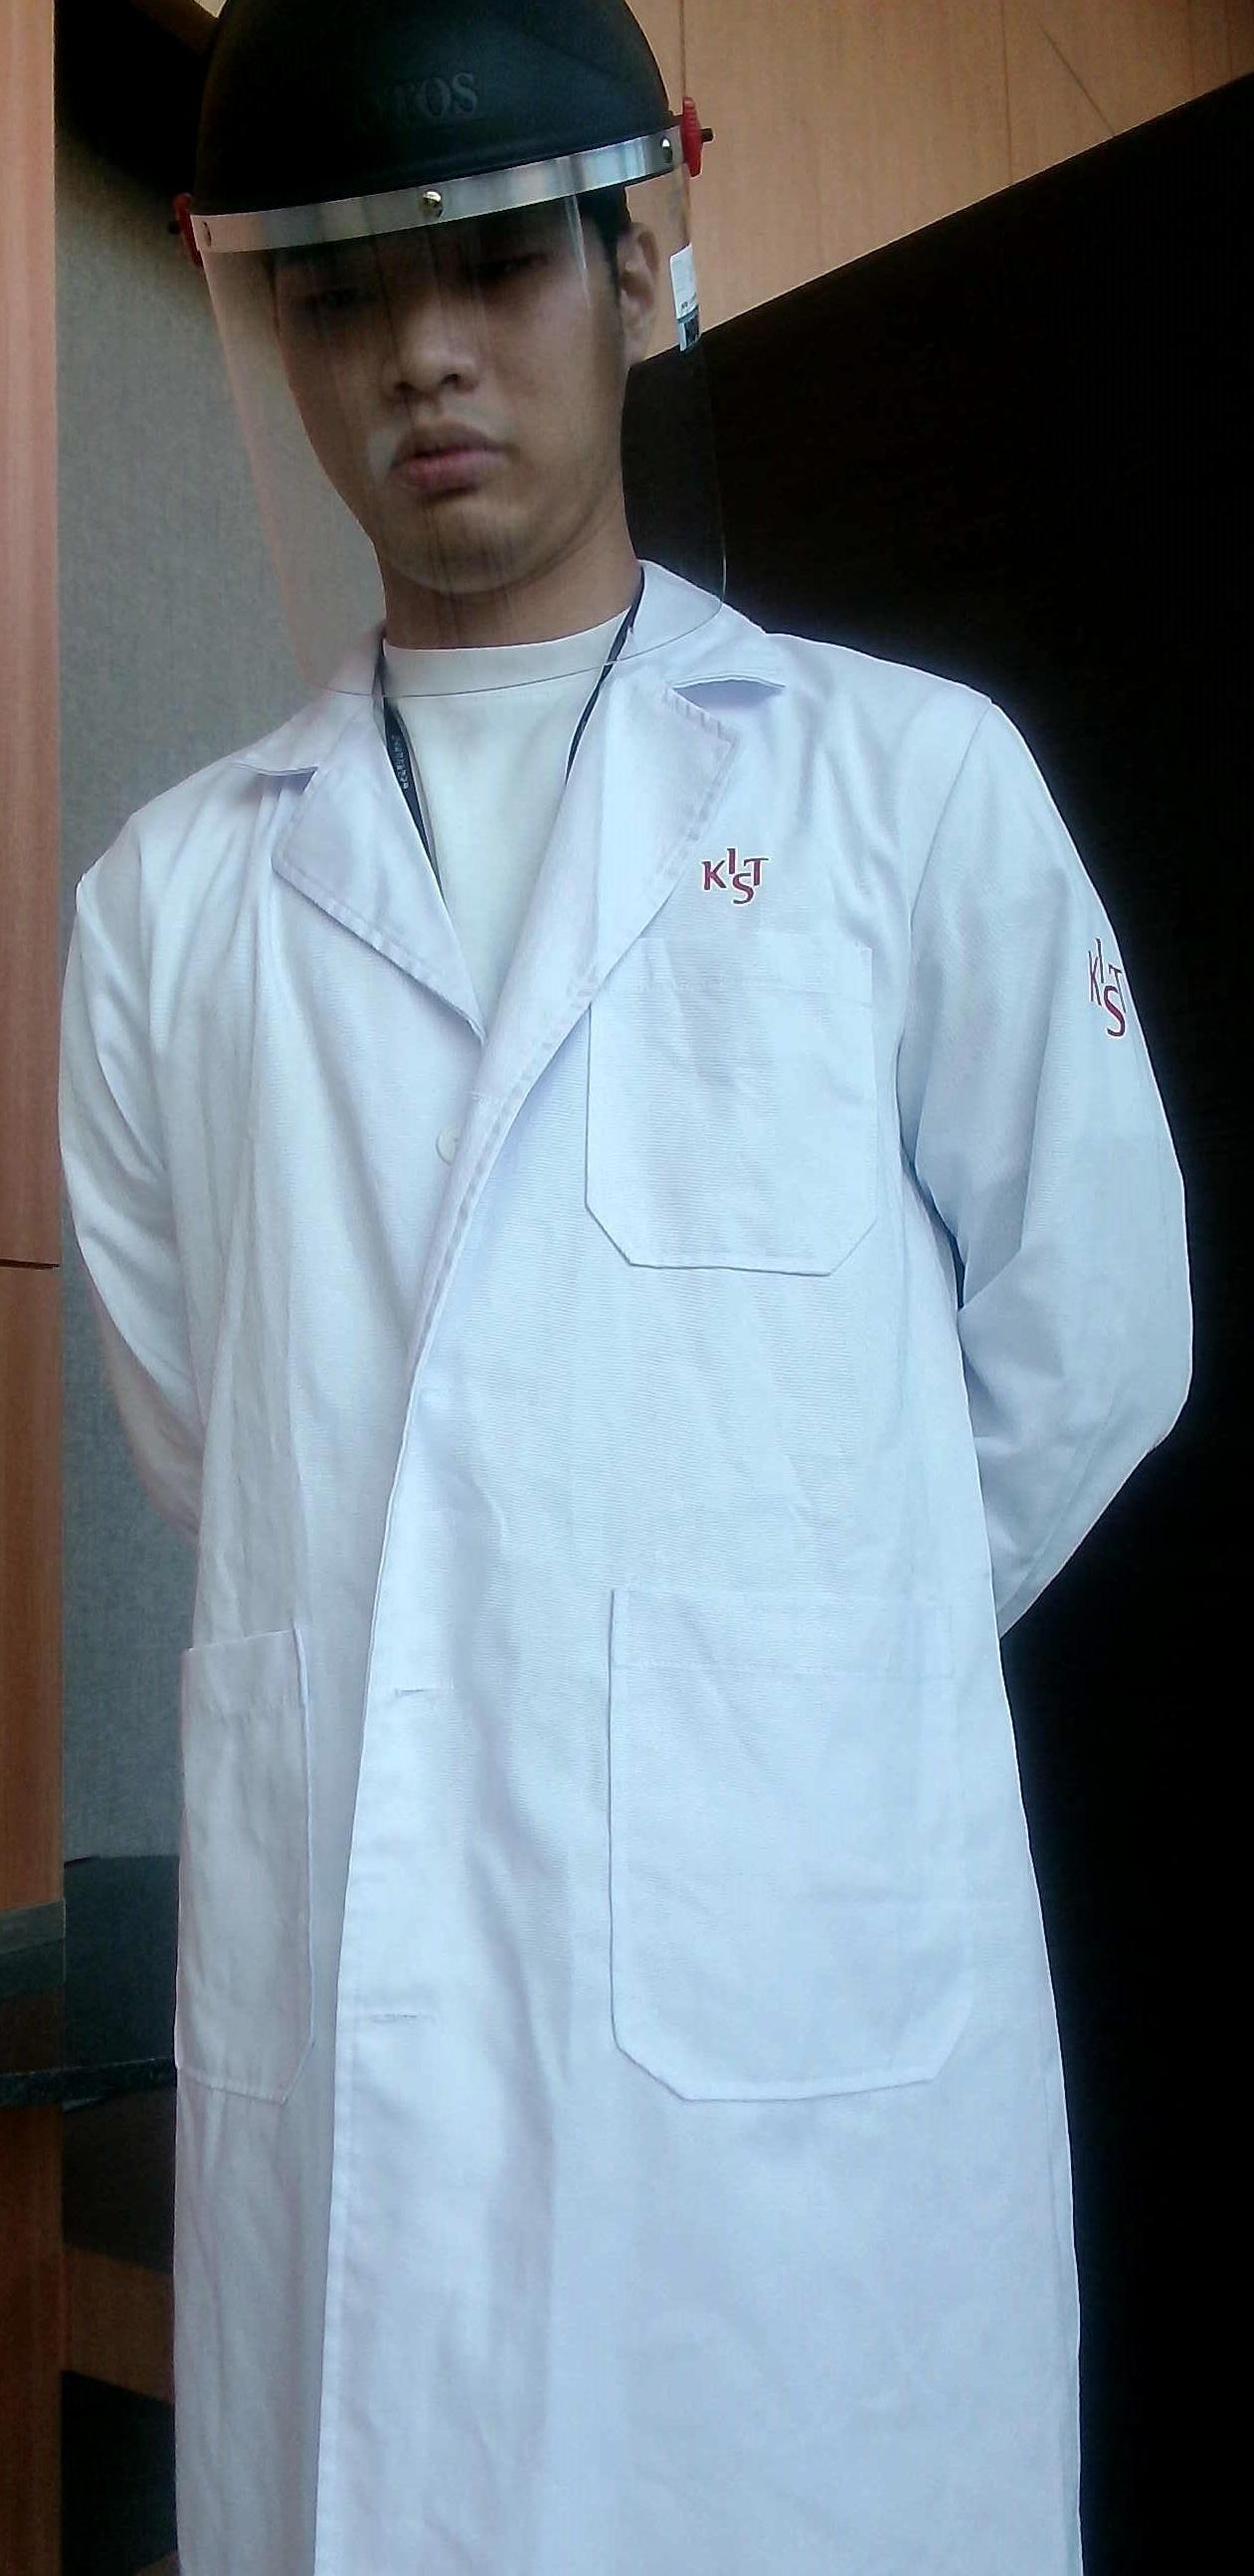lab_coat: (61, 716, 1210, 2576)
